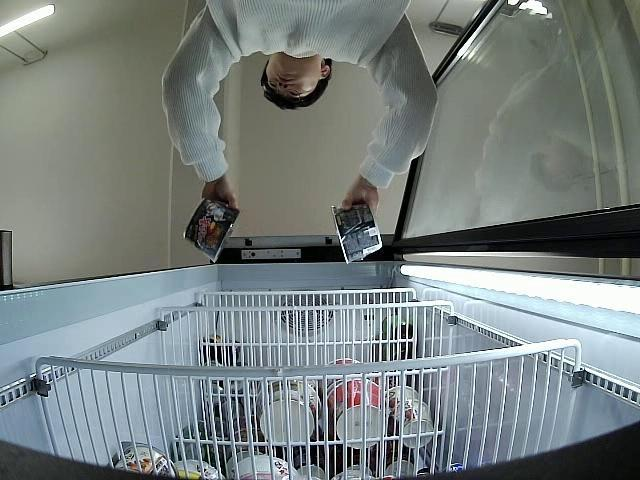07_buldak_L: (182, 197, 238, 263), (332, 200, 384, 267)
